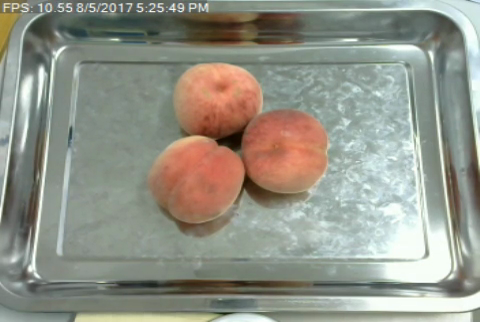Peach: (149, 135, 243, 223), (242, 106, 328, 194), (174, 60, 261, 135)
